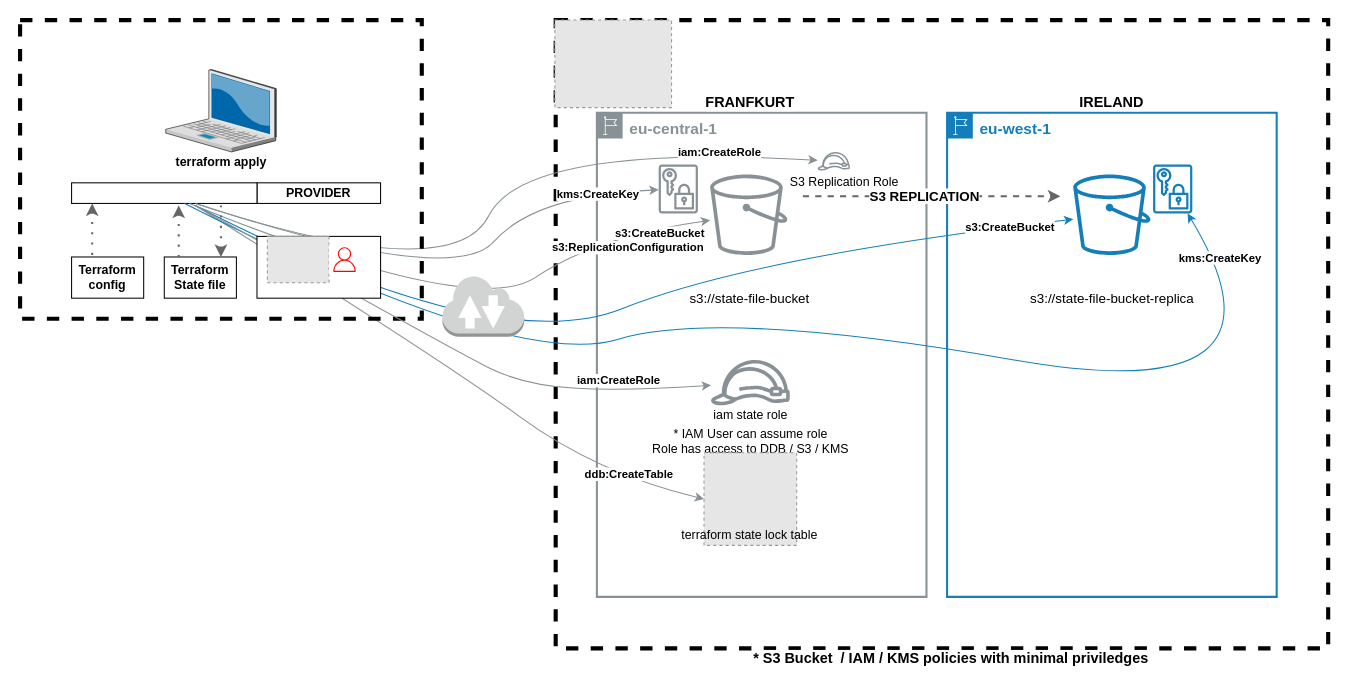
Some shapes in this 1347 by 686 pixel diagram are drawn without their labels. Grey dashed boxes stand in for pictures. The shapes that lost their labels are listed below. From the top down, each one's centre as x and y in pixels, then its label:
At point 164,192: "CORE".
At point 344,259: "IAM User".
